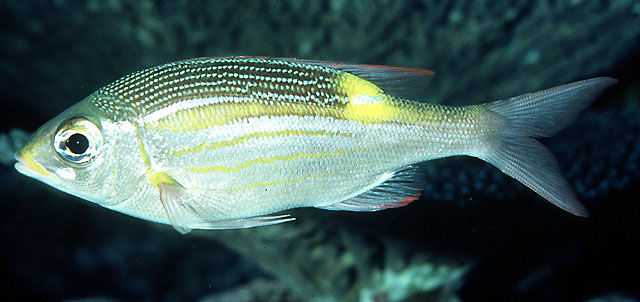fish: (13, 56, 617, 234)
